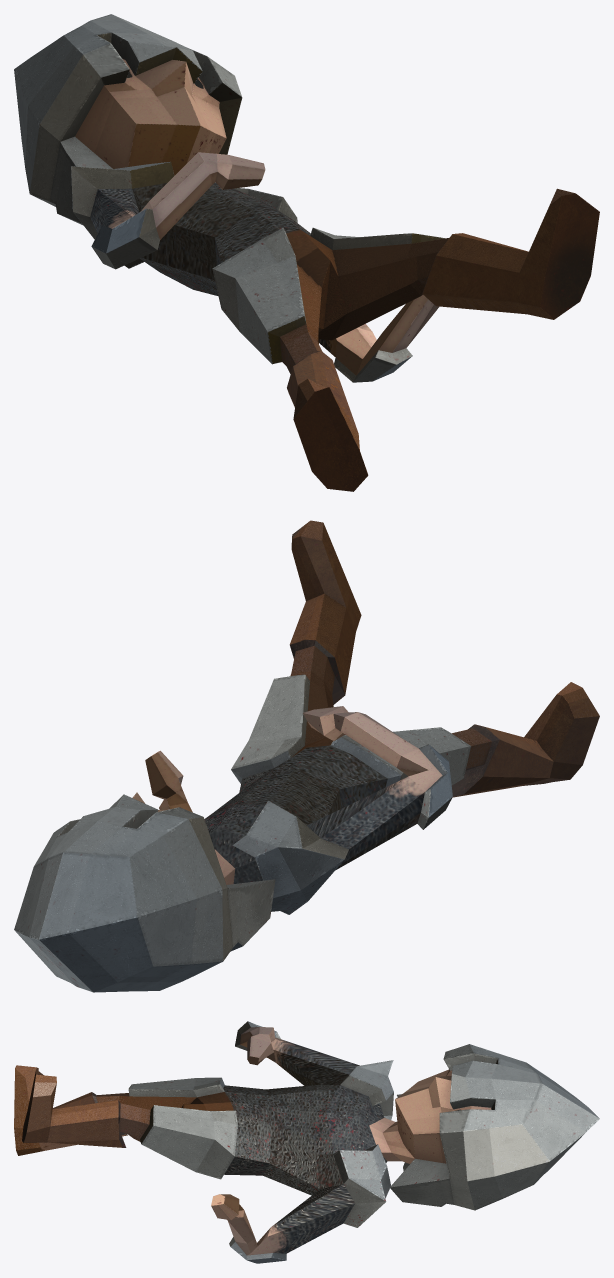
The model's file is Walk_Soldier_13.obj.
3 renders of one model, top to bottom at view 1: azimuth 30°, elevation 25°; view 2: azimuth 150°, elevation 25°; view 3: azimuth 270°, elevation 25°, orthographic. The views are drawn at different scales.
Visible parts, largest first — view 1: Soldado_LowPolySTD; view 2: Soldado_LowPolySTD; view 3: Soldado_LowPolySTD.
Part boxes in pixels (x1,y1,x2,y2): Soldado_LowPolySTD: (14,14,599,491); Soldado_LowPolySTD: (14,520,599,992); Soldado_LowPolySTD: (14,1021,599,1263).
Bounding box in the file's own units: 0.768 × 0.6142 × 1.59.
